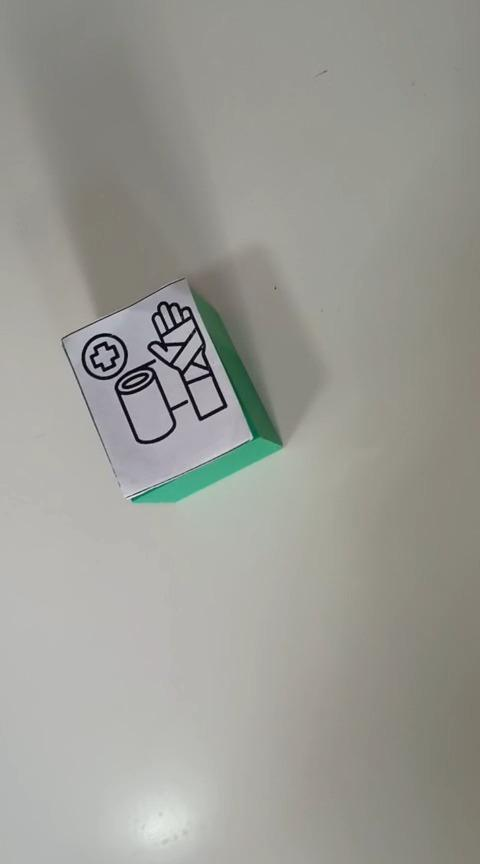Bandages: (60, 275, 283, 503)
